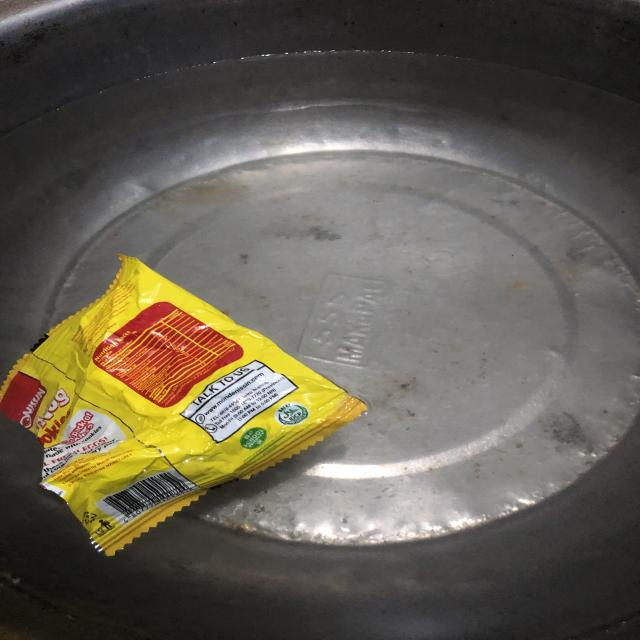Plastic Wrapper: (0, 254, 367, 556)
